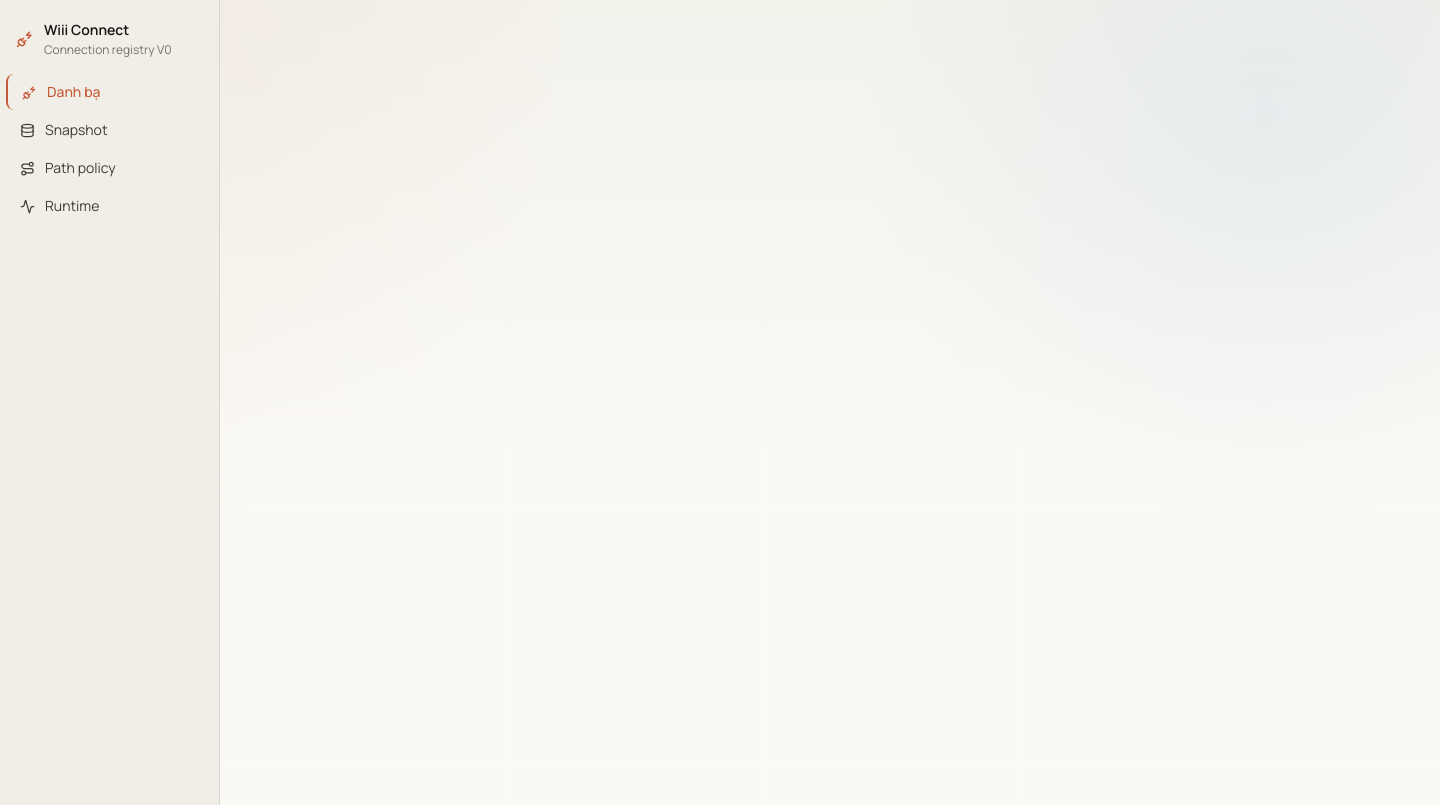
Scenario: WiiiConnectPage › redacts sensitive doctor lifecycle fields before rendering
What coordinates should you click on to do the following:
click the button "Runtime"
I would click on:
 (110, 206)
Its box is [8,188,211,224].
(page scrolled)
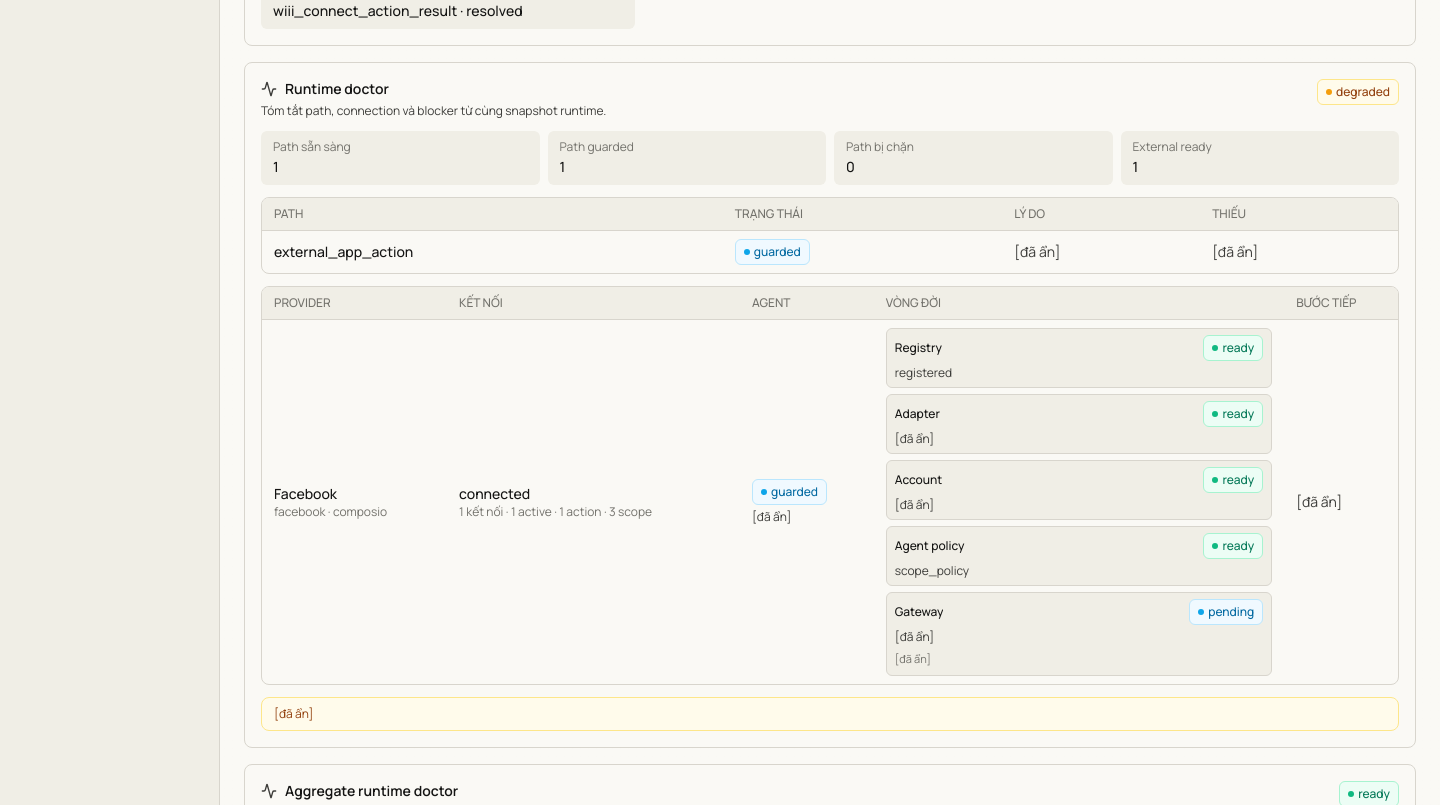
Expected: the element with test id "wiii-connect-doctor-panel" shows "Facebook", [274,484,337,503]
Expected: the element with test id "wiii-connect-doctor-panel" shows "Registry", [895,339,942,356]
Expected: the element with test id "wiii-connect-doctor-panel" shows "Gateway", [895,603,944,620]
